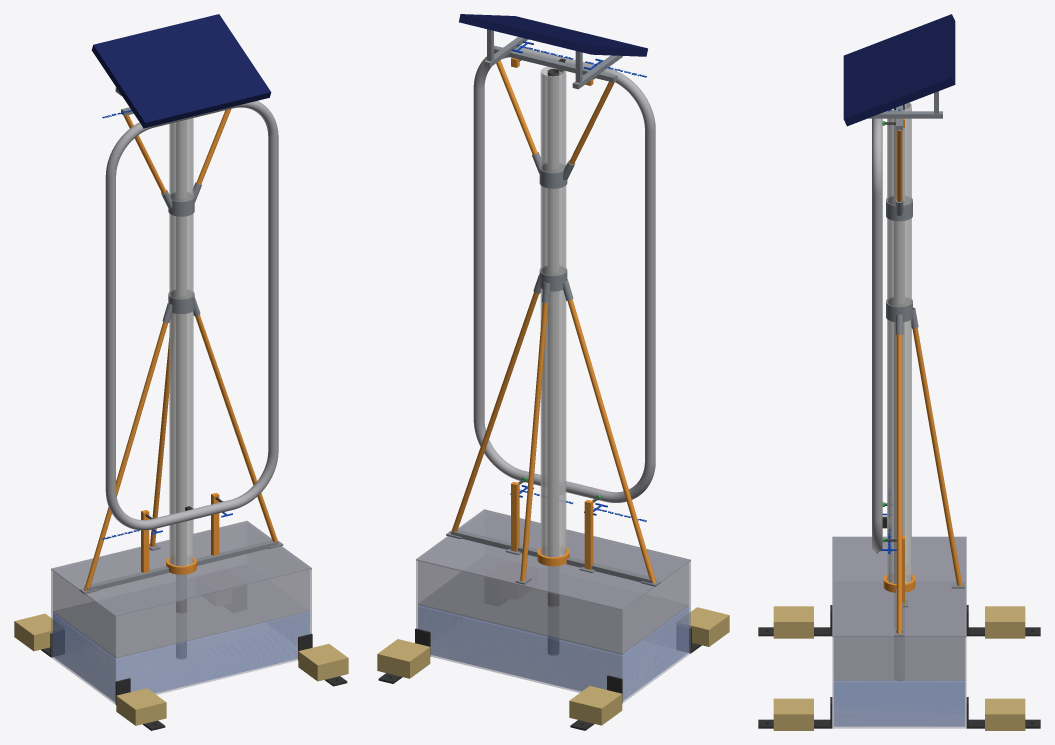
Rendered from track-supports-assembly-v2.glb.
The picture shows the model from 3 angles, left to right: view 1: azimuth 30°, elevation 25°; view 2: azimuth 150°, elevation 25°; view 3: azimuth 270°, elevation 25°; orthographic projection. The views are drawn at different scales.
Visible parts, largest first — view 1: tank, solar_panel_30W, track_loop, water_volume, lid, growing_pipe, shelf, spine_tube, sandbags, lower_aframe_and_back_strut_16mm, base_bar_and_lid_plates, clamp_collars_50mm (+3 smaller); view 2: tank, growing_pipe, water_volume, track_loop, lid, shelf, spine_tube, lower_aframe_and_back_strut_16mm, sandbags, solar_panel_30W, clamp_collars_50mm, base_bar_and_lid_plates (+6 smaller); view 3: tank, lid, growing_pipe, solar_panel_30W, water_volume, shelf, sandbags, track_loop, lower_aframe_and_back_strut_16mm, spine_tube, fold_out_feet, clamp_collars_50mm (+2 smaller).
Part boxes in pixels (x1,y1,x2,y2): tank: [51, 522, 311, 704]; solar_panel_30W: [91, 14, 271, 128]; track_loop: [105, 101, 278, 530]; water_volume: [53, 612, 309, 701]; lid: [51, 521, 311, 616]; growing_pipe: [169, 118, 193, 566]; shelf: [53, 580, 309, 658]; spine_tube: [176, 120, 186, 658]; sandbags: [14, 613, 348, 725]; lower_aframe_and_back_strut_16mm: [84, 315, 278, 590]; base_bar_and_lid_plates: [79, 540, 283, 594]; clamp_collars_50mm: [161, 182, 201, 322]; tank: [416, 511, 690, 702]; growing_pipe: [540, 66, 566, 557]; water_volume: [418, 606, 688, 700]; track_loop: [473, 46, 655, 502]; lid: [416, 509, 690, 610]; shelf: [418, 572, 688, 654]; spine_tube: [547, 68, 559, 654]; lower_aframe_and_back_strut_16mm: [451, 292, 656, 583]; sandbags: [377, 607, 729, 725]; solar_panel_30W: [459, 14, 647, 56]; clamp_collars_50mm: [532, 152, 575, 302]; base_bar_and_lid_plates: [446, 530, 660, 586]; tank: [832, 637, 966, 728]; lid: [832, 536, 966, 637]; growing_pipe: [887, 102, 911, 583]; solar_panel_30W: [843, 14, 955, 126]; water_volume: [834, 681, 964, 726]; shelf: [834, 637, 964, 680]; sandbags: [773, 606, 1025, 730]; track_loop: [872, 118, 882, 552]; lower_aframe_and_back_strut_16mm: [896, 328, 962, 633]; spine_tube: [894, 104, 904, 627]; fold_out_feet: [758, 605, 1040, 728]; clamp_collars_50mm: [886, 198, 918, 334].
Bounding box in the file's own units: 760 × 2080 × 840.
